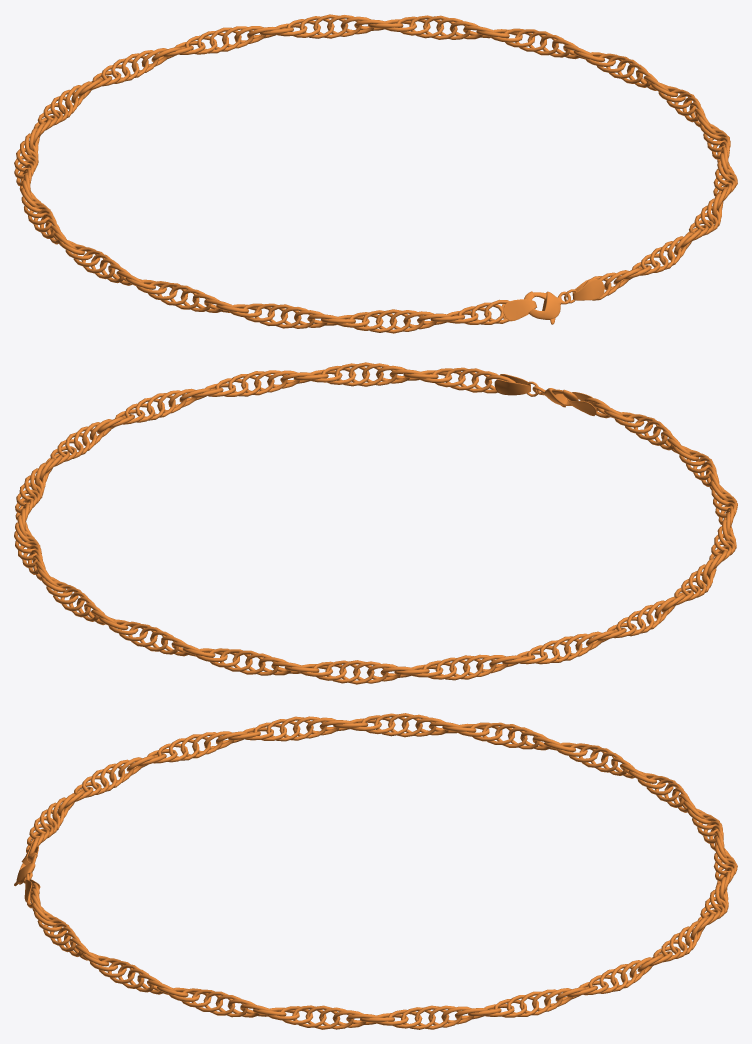
3 renders of one model, top to bottom at view 1: azimuth 30°, elevation 25°; view 2: azimuth 150°, elevation 25°; view 3: azimuth 270°, elevation 25°, orthographic.
Parts seen in each view (by area): view 1: 13093_gold_twisted_rope_bracelet; view 2: 13093_gold_twisted_rope_bracelet; view 3: 13093_gold_twisted_rope_bracelet.
Part boxes in pixels (x1,y1,x2,y2): 13093_gold_twisted_rope_bracelet: (14,14,737,333); 13093_gold_twisted_rope_bracelet: (14,362,737,684); 13093_gold_twisted_rope_bracelet: (14,713,737,1029).
Bounding box in the file's own units: 2.26 × 0.0956 × 2.27.
